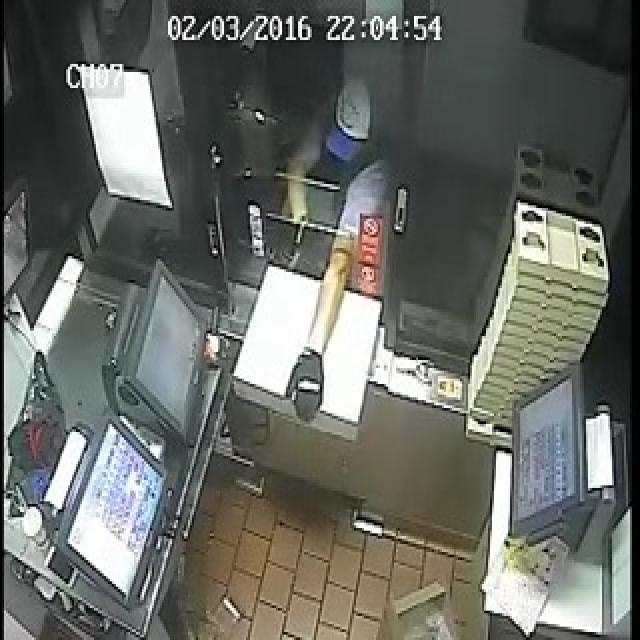thief: (297, 62, 414, 231)
